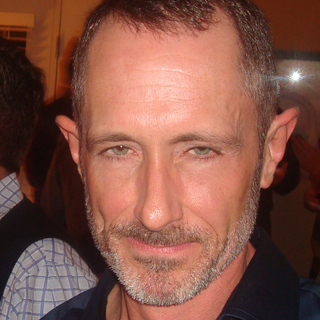eye: (174, 141, 226, 162), (96, 141, 142, 164)
